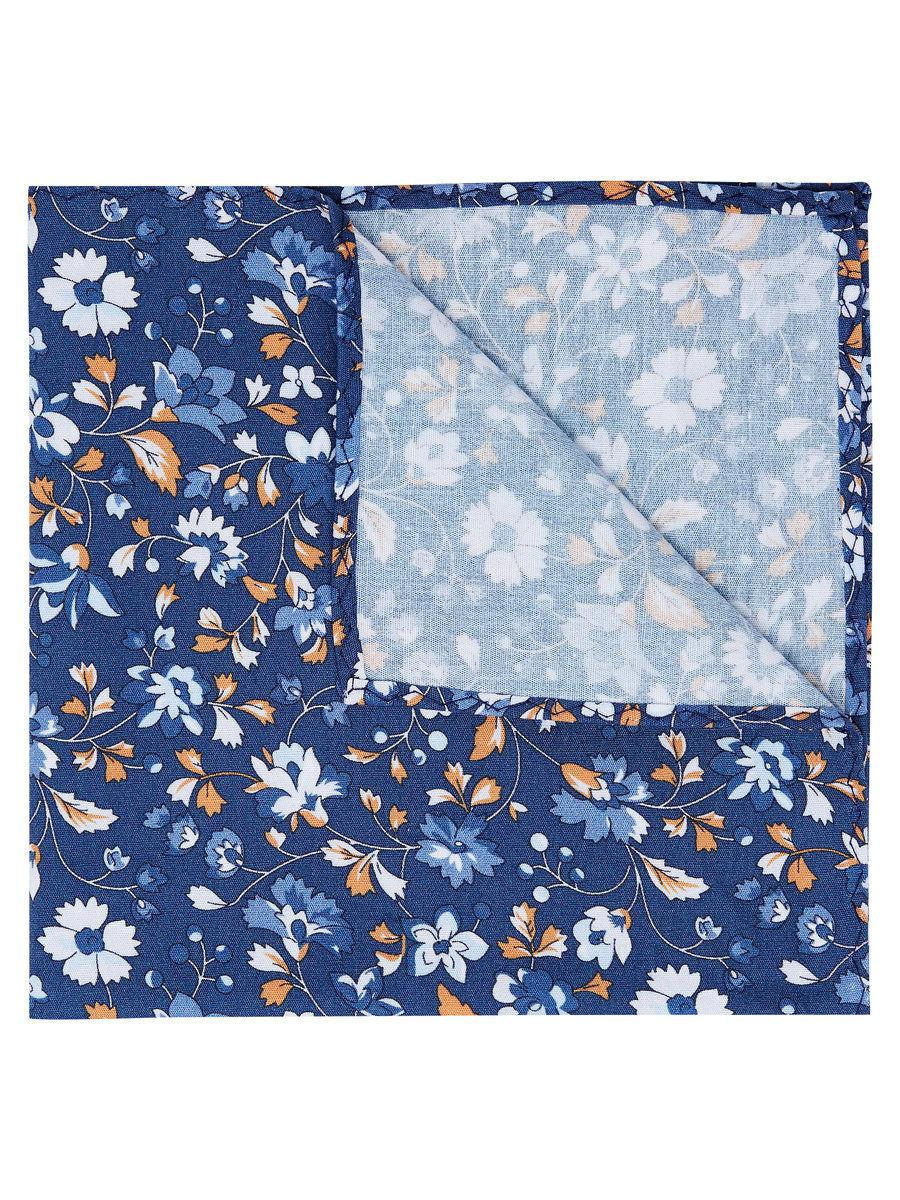teeshirt: (18, 176, 874, 1023)
